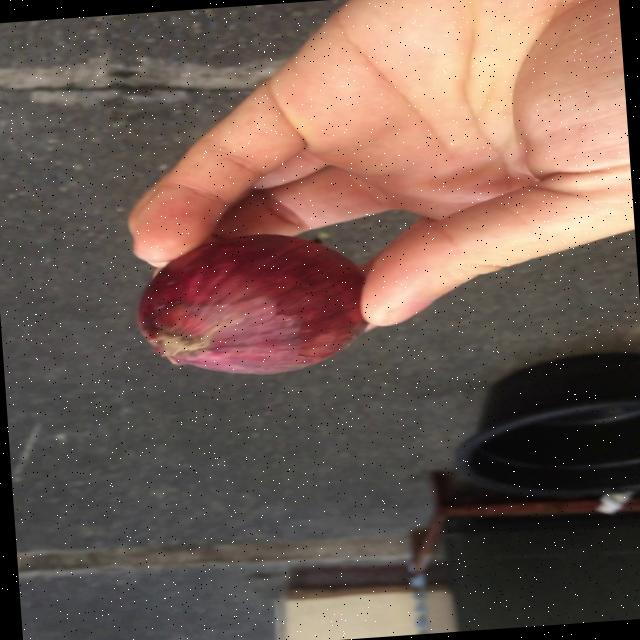Onion: (137, 233, 366, 373)
